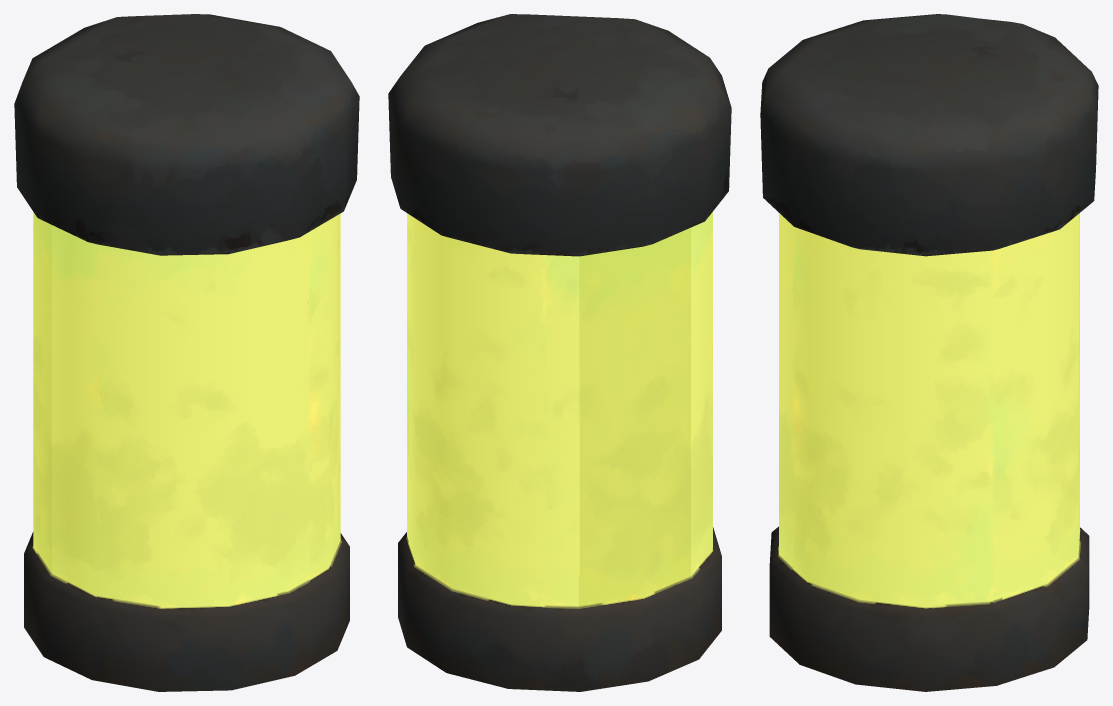
The model's file is FlaskV3.gltf.
3 renders of one model, left to right at view 1: azimuth 30°, elevation 25°; view 2: azimuth 150°, elevation 25°; view 3: azimuth 270°, elevation 25°, orthographic.
Visible parts, largest first — view 1: FlaskV3; view 2: FlaskV3; view 3: FlaskV3.
Boxes of the visible parts, x1=… form: FlaskV3: x1=14, y1=14, x2=359, y2=691; FlaskV3: x1=388, y1=14, x2=731, y2=691; FlaskV3: x1=760, y1=14, x2=1098, y2=691.
Bounding box in the file's own units: 5.86 × 10.48 × 5.74.
1 material, 1 textured.
